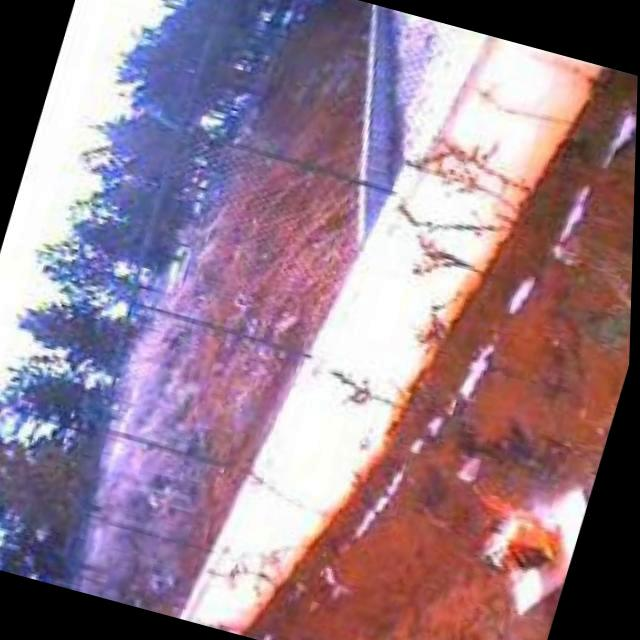fire: (451, 476, 581, 588)
